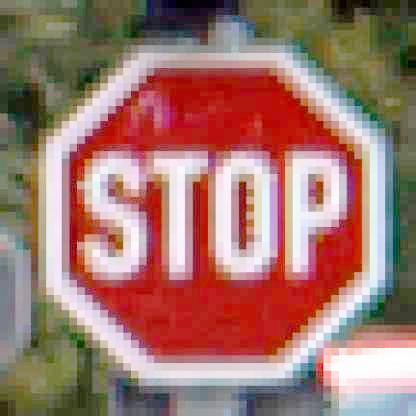Stop Sign: (47, 39, 398, 385)
